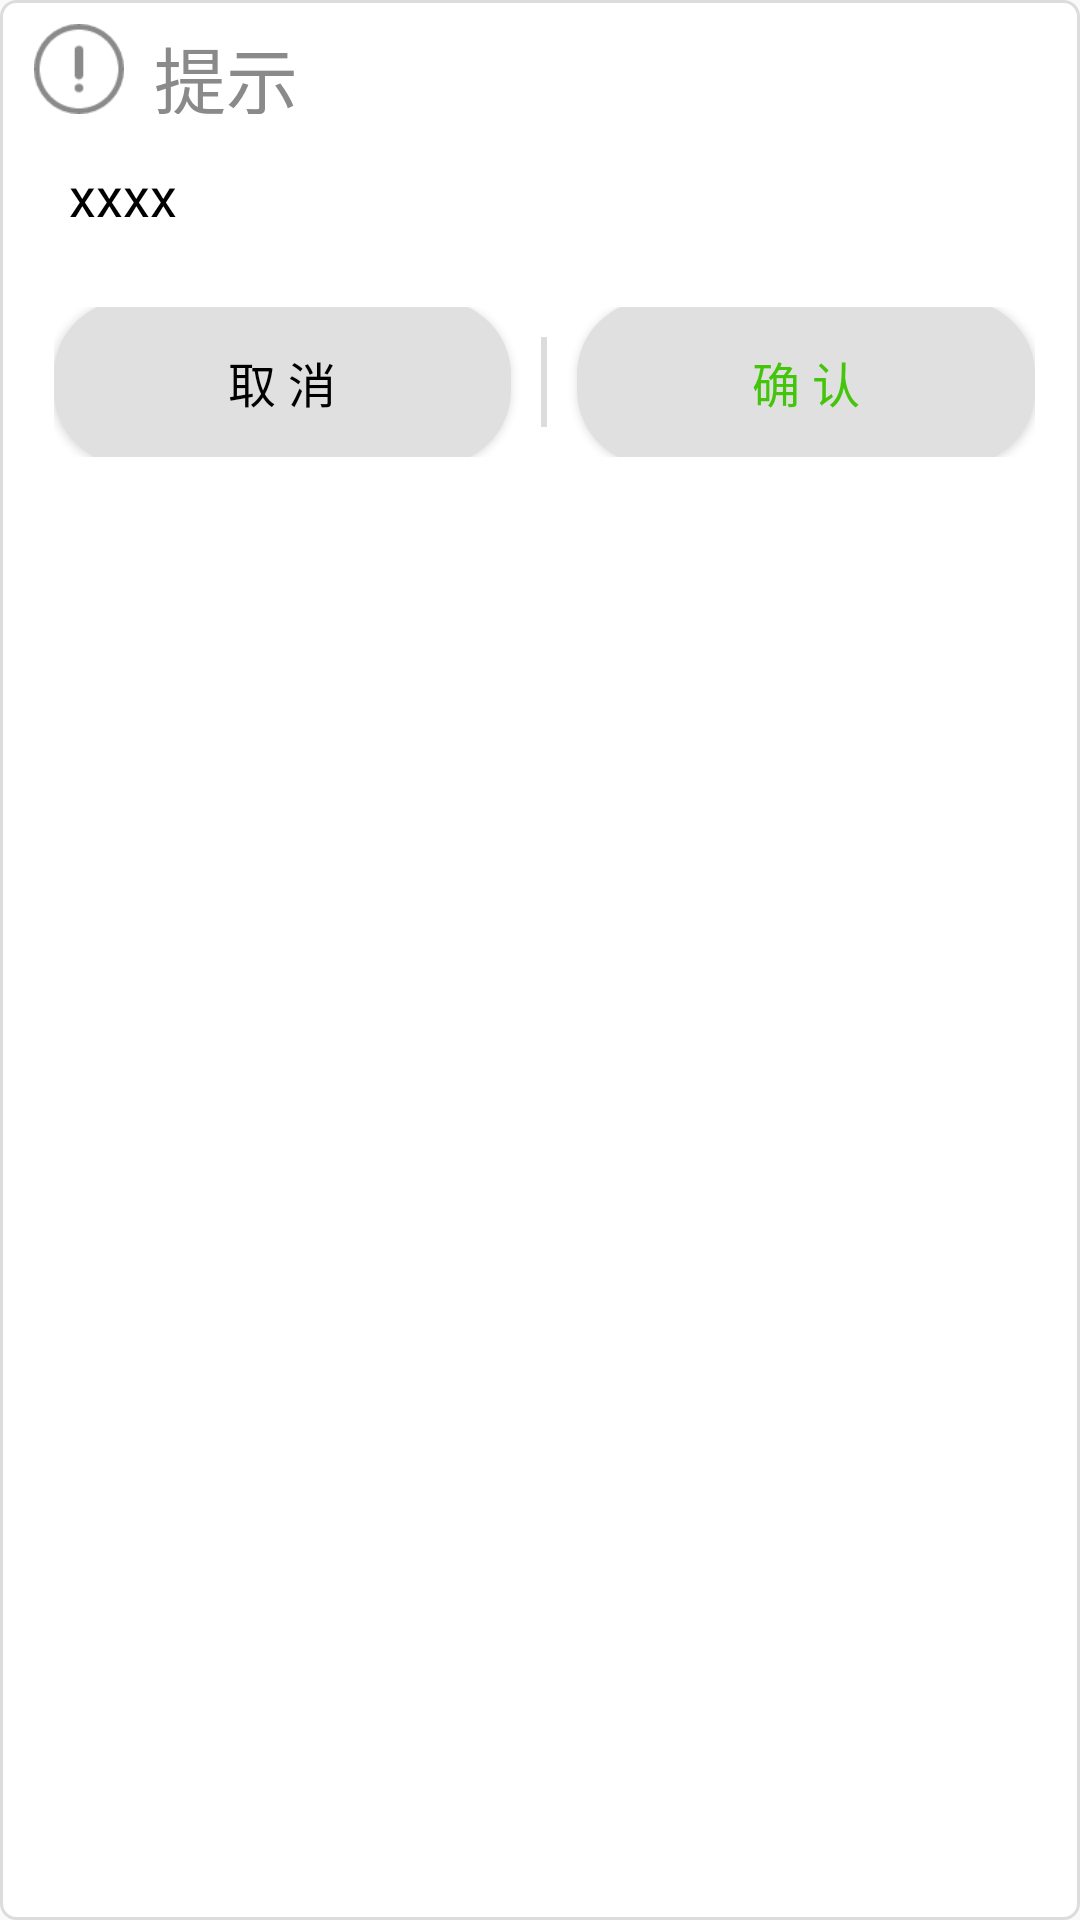

Icons on this 1080*1920 Android screen, each with the point to tap as [x,y]:
tips: [79,69]
